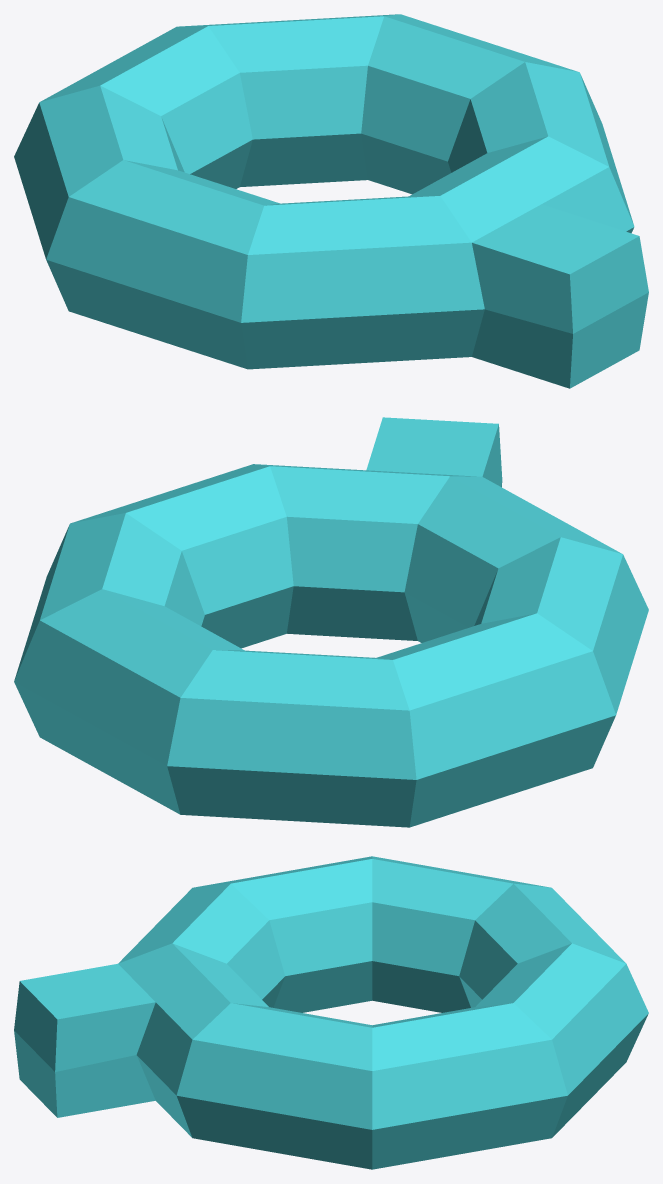
The model's file is Cuff.fbx.
The picture shows the model from 3 angles, top to bottom: view 1: azimuth 30°, elevation 25°; view 2: azimuth 150°, elevation 25°; view 3: azimuth 270°, elevation 25°; orthographic projection. The views are drawn at different scales.
Visible parts, largest first — view 1: Torus; view 2: Torus; view 3: Torus.
Boxes of the visible parts, x1,y1,x2,y2 form: Torus: (14,14,648,388); Torus: (14,417,648,827); Torus: (14,856,648,1169).
Size of the model in its own units: 36 by 10 by 41.3.
